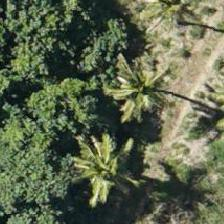coconut_tree: (91, 42, 181, 132), (57, 126, 147, 216)
